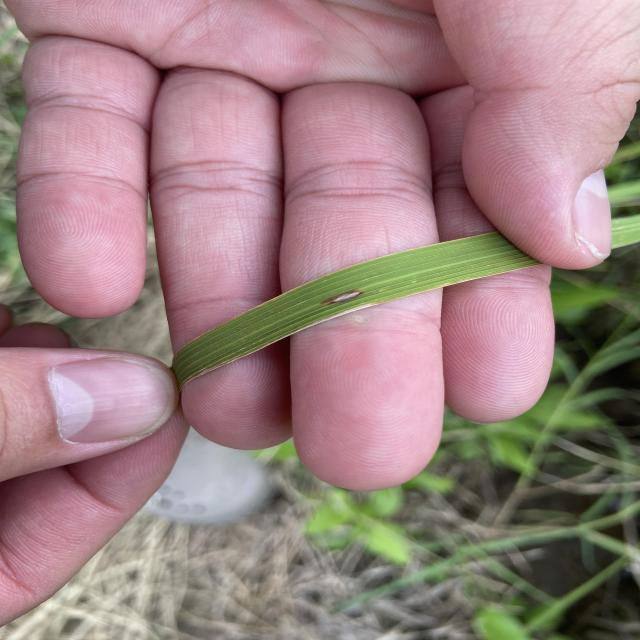Dao on: (319, 290, 364, 306)
